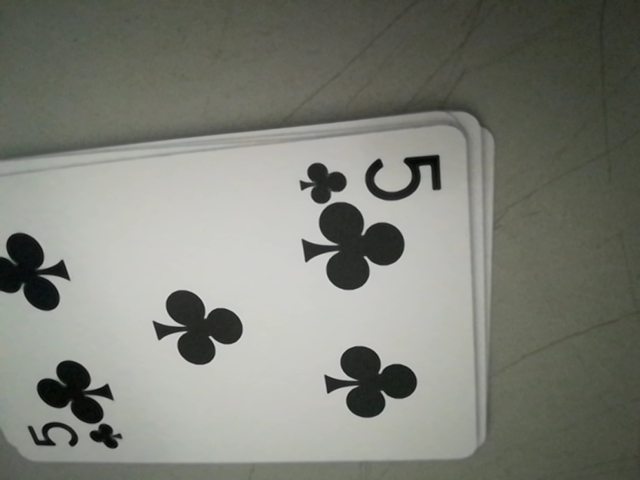mh 5: (295, 145, 447, 206), (21, 417, 122, 459)
